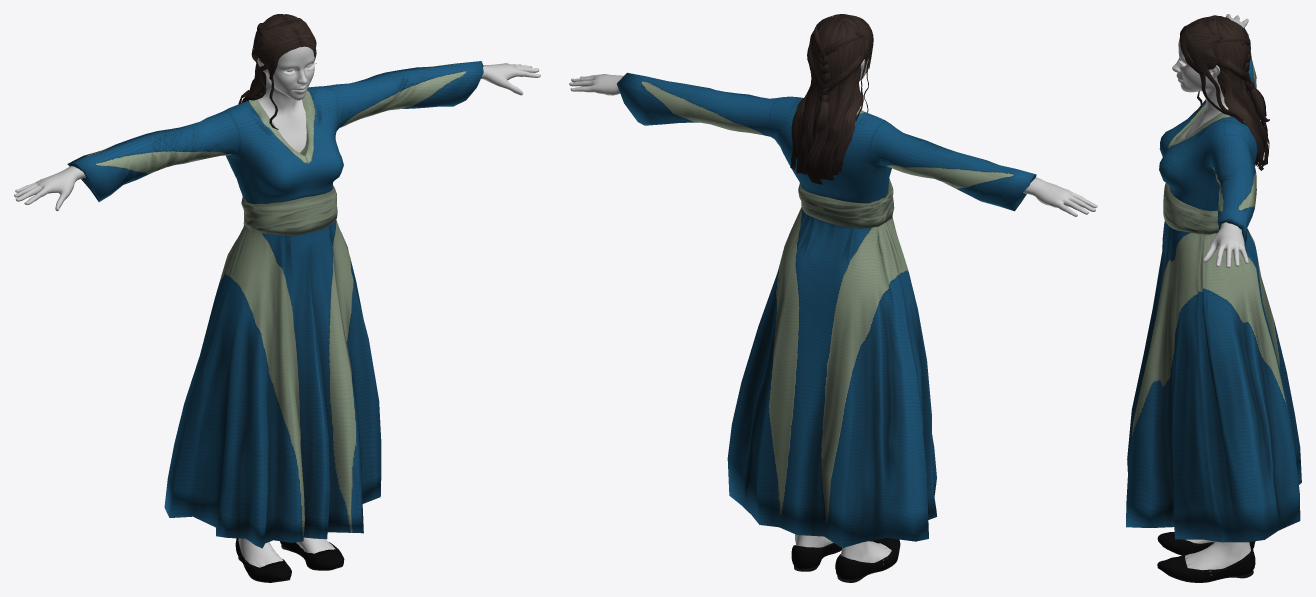
Rendered from FemaleNpc1.obj.
3 renders of one model, left to right at view 1: azimuth 30°, elevation 25°; view 2: azimuth 150°, elevation 25°; view 3: azimuth 270°, elevation 25°, orthographic.
Parts seen in each view (by area): view 1: Tops, Body, Hair, Shoes; view 2: Tops, Hair, Body, Shoes; view 3: Tops, Hair, Body, Shoes.
Boxes of the visible parts, x1,y1,x2,y2 form: Tops: (67, 61, 483, 548); Body: (14, 46, 540, 567); Hair: (238, 14, 316, 129); Shoes: (235, 538, 344, 582); Tops: (617, 72, 1036, 548); Hair: (790, 14, 873, 184); Body: (569, 59, 1097, 564); Shoes: (791, 538, 900, 582); Tops: (1126, 28, 1301, 542); Hair: (1180, 15, 1269, 170); Body: (1172, 14, 1250, 575); Shoes: (1157, 532, 1255, 582).
Bounding box in the file's own units: 179 × 178 × 52.26.
